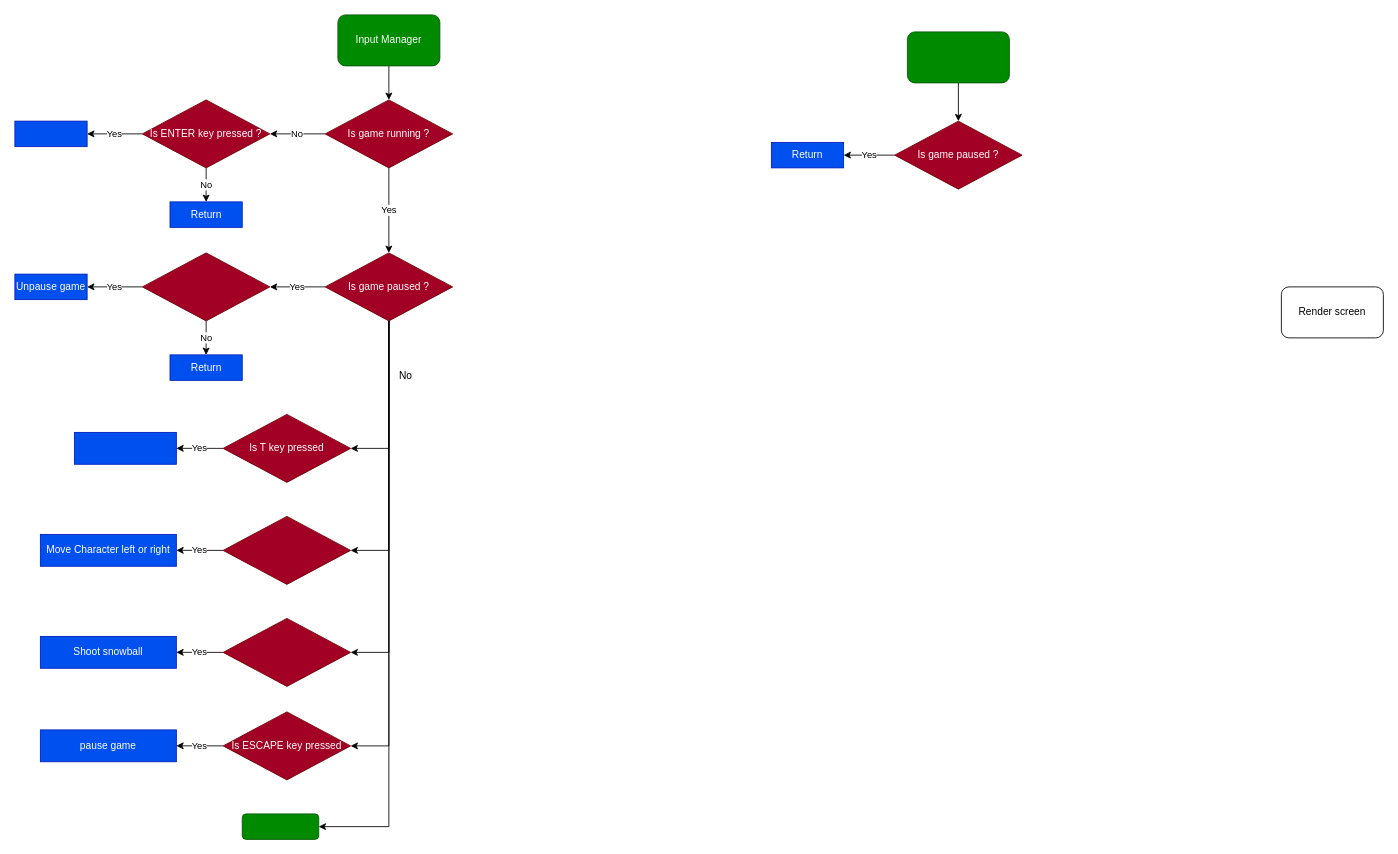
The diagram is 1398 pixels wide and 854 high, and some of its shapes have lost their labels. Here are the shapes that lost their labels. From the top down, the box of each, then its label:
(907, 31, 1009, 83): Main loop
(14, 120, 87, 147): Sstart game
(142, 252, 270, 321): Is ESCAPE key clicked ?
(74, 432, 176, 464): Switch auto shoot
(222, 516, 351, 584): Is A/D key pressed
(222, 618, 351, 686): Is SPACE key pressed
(241, 813, 319, 839): End
